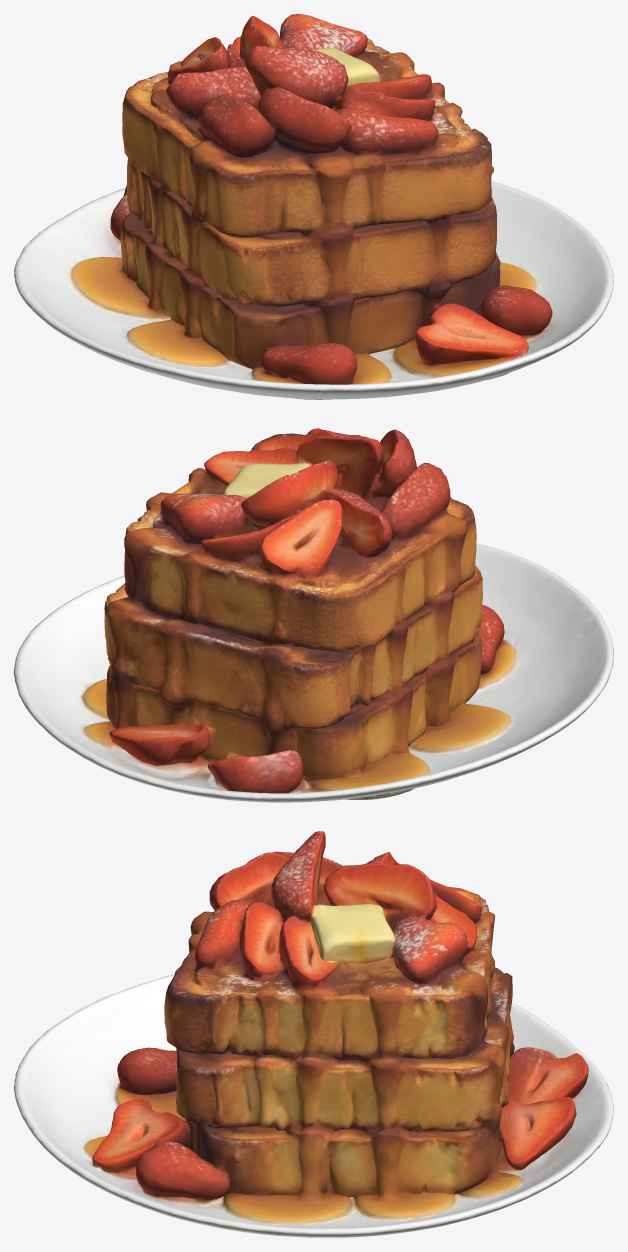
Rendered from p_toast.glb.
The picture shows the model from 3 angles, top to bottom: view 1: azimuth 30°, elevation 25°; view 2: azimuth 150°, elevation 25°; view 3: azimuth 270°, elevation 25°; orthographic projection.
Visible parts, largest first — view 1: tripo_node_be7791fe-7f79-49de-950b-d59165bc6ffe; view 2: tripo_node_be7791fe-7f79-49de-950b-d59165bc6ffe; view 3: tripo_node_be7791fe-7f79-49de-950b-d59165bc6ffe.
Boxes of the visible parts, left/top/right/bottom form: tripo_node_be7791fe-7f79-49de-950b-d59165bc6ffe: left=14, top=14, right=613, bottom=399; tripo_node_be7791fe-7f79-49de-950b-d59165bc6ffe: left=14, top=428, right=613, bottom=802; tripo_node_be7791fe-7f79-49de-950b-d59165bc6ffe: left=14, top=831, right=613, bottom=1237.
Size of the model in its own units: 0.9954 by 0.5196 by 1.
Materials: 1 (1 with a texture image).
